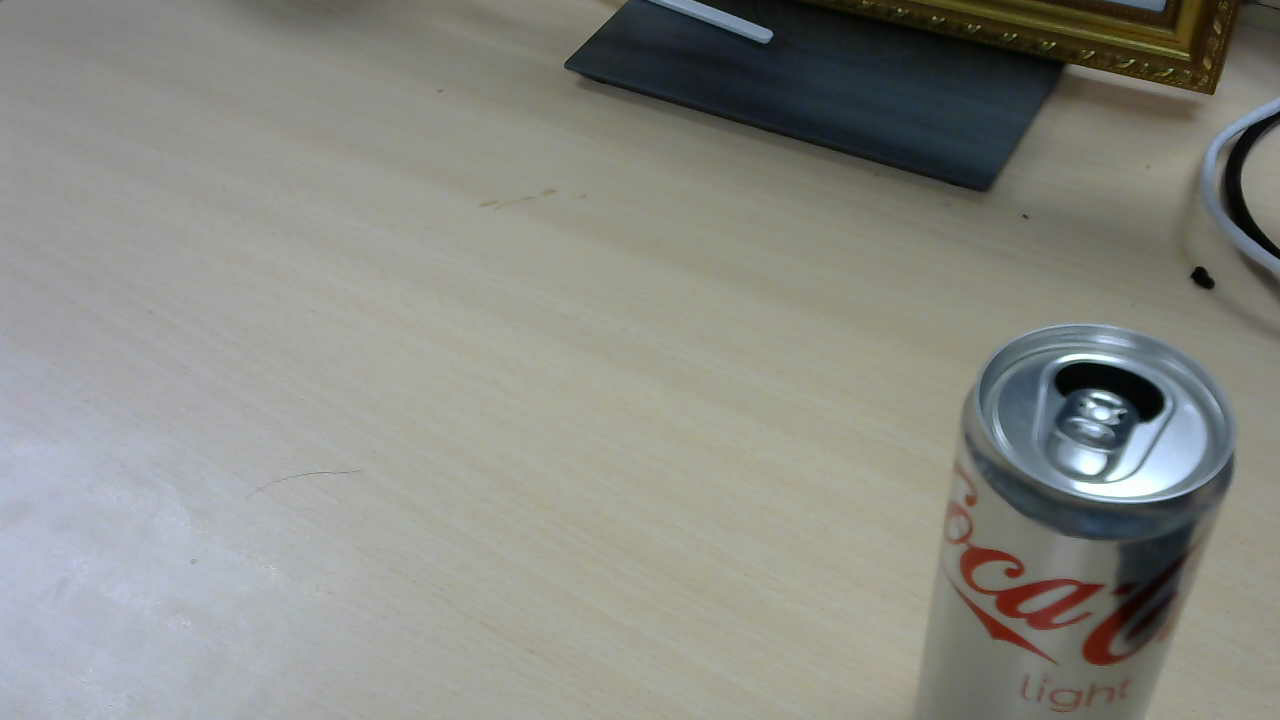Coca_Cola: (923, 325, 1247, 720)
